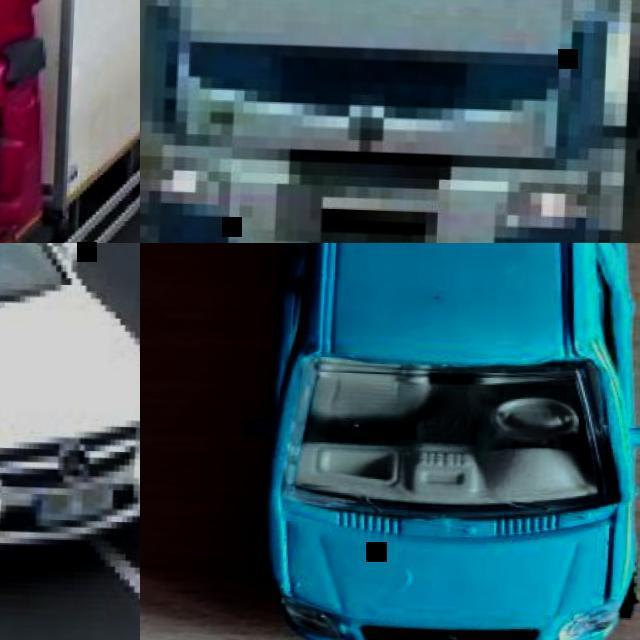car: (0, 240, 144, 567), (1, 0, 141, 241)
